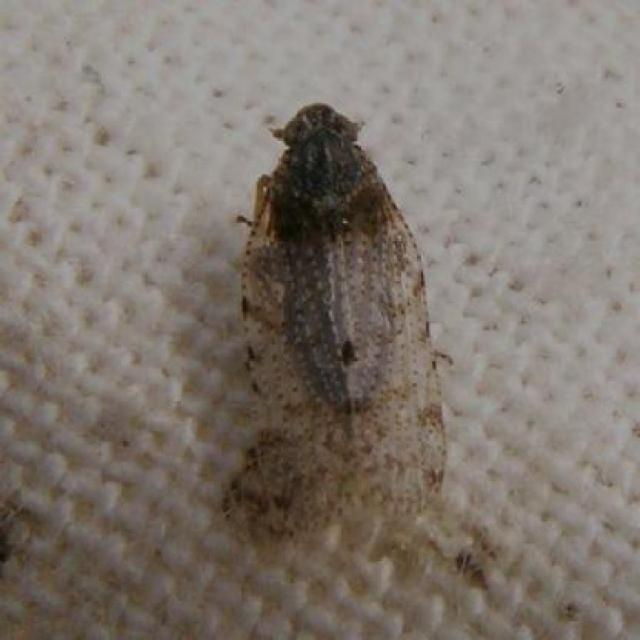brown-planthopper: (240, 95, 451, 531)
